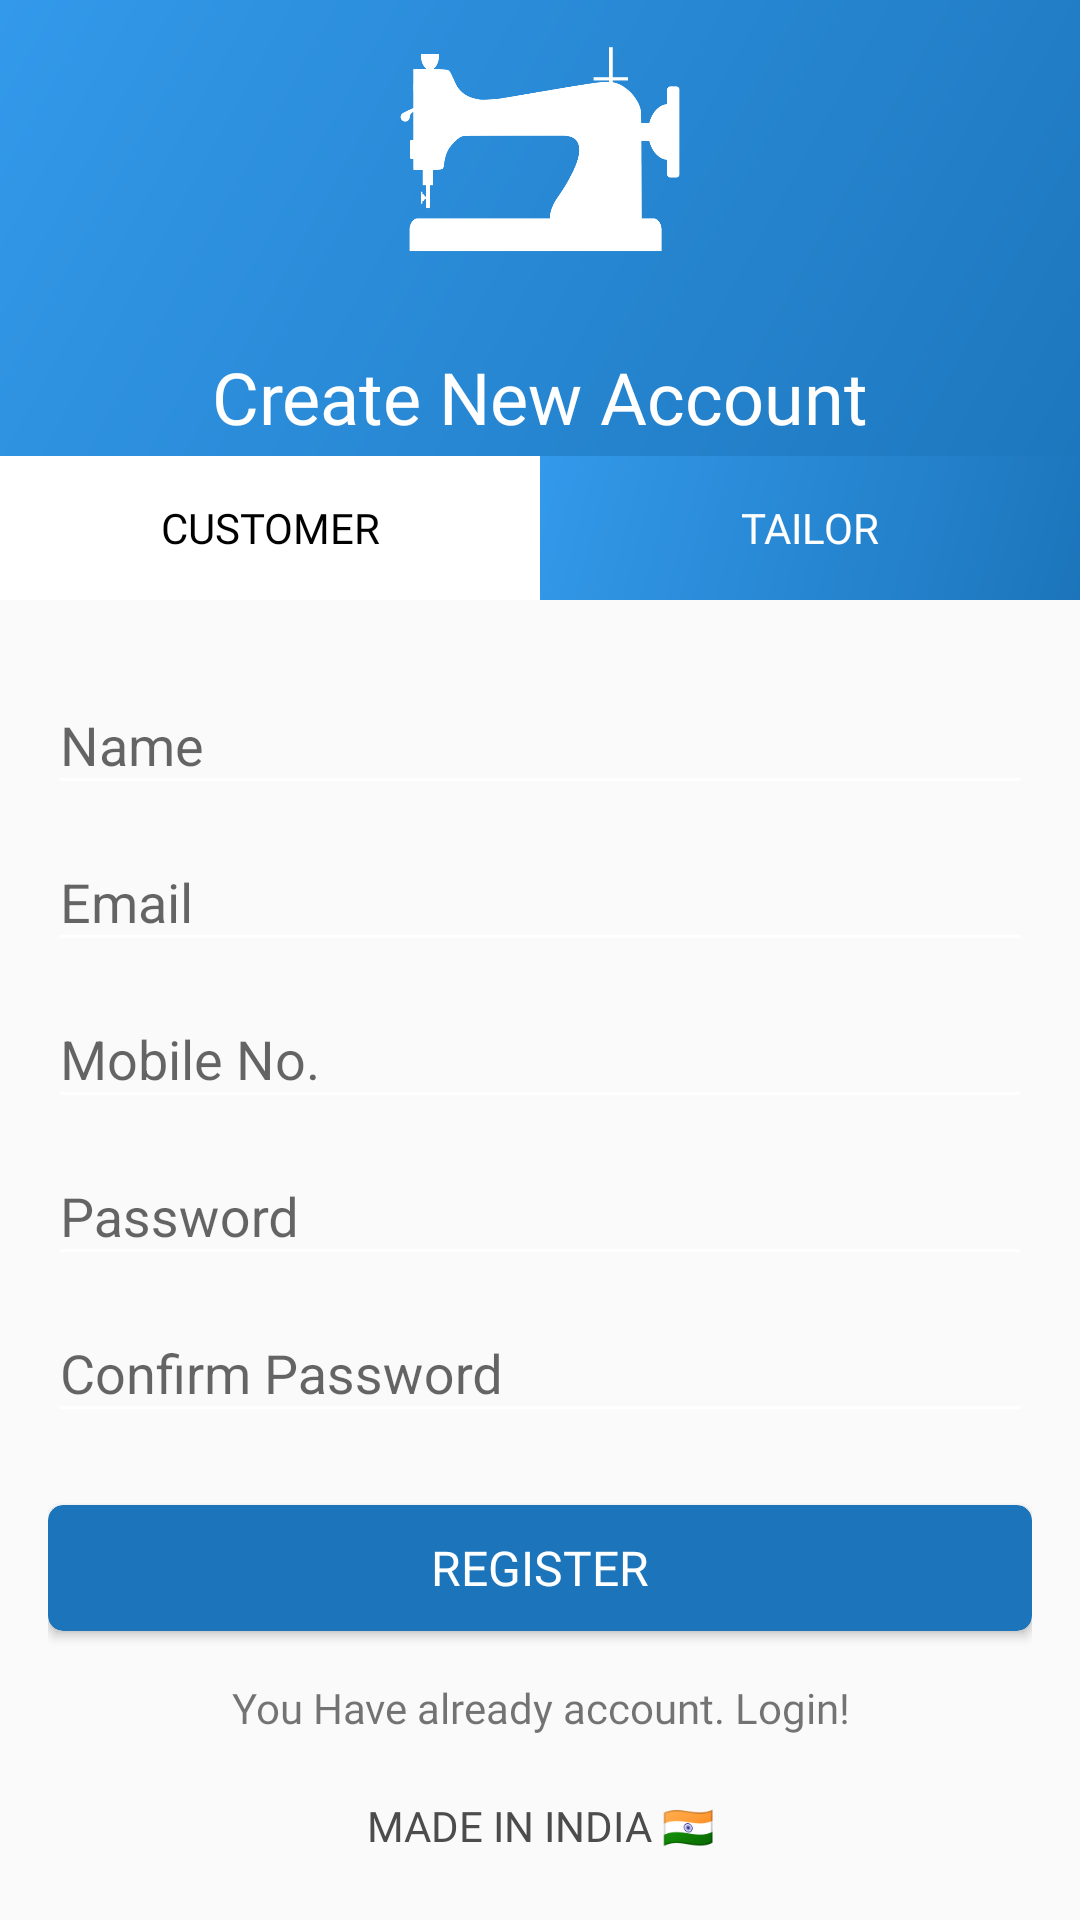

Icons on this 1080*1920 Android screen, each with its box as BBox(x1, y1, x2, y2):
swieng: BBox(400, 47, 680, 251)
